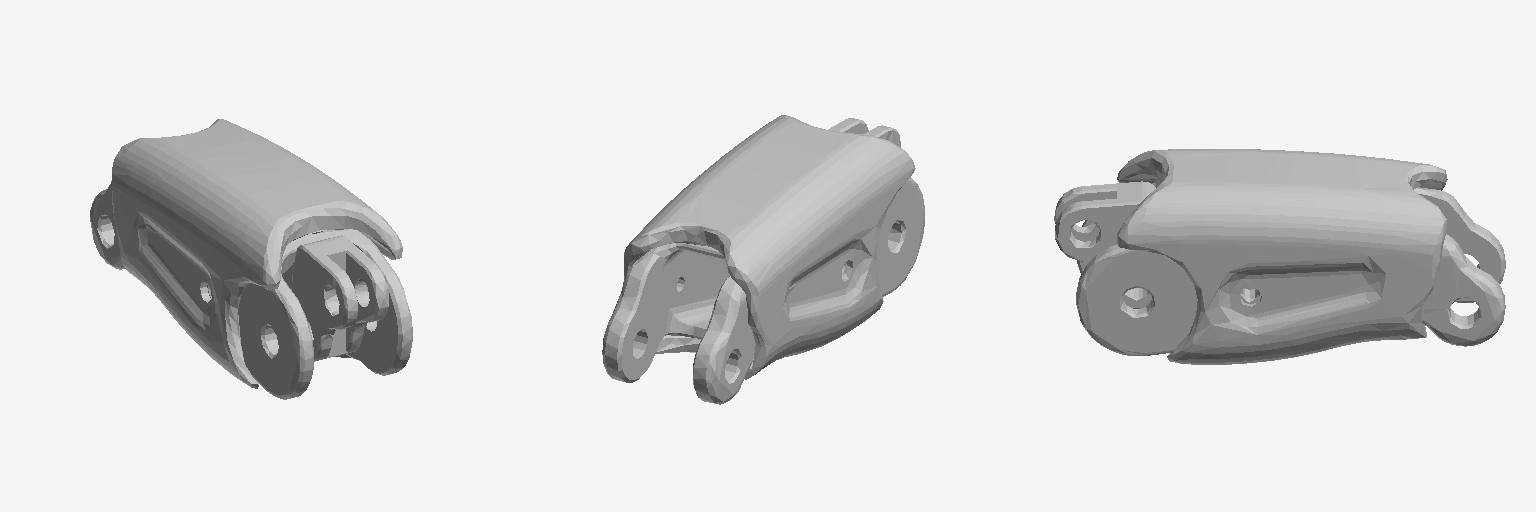
The model's file is L_ring_proximal.obj.
3 views of the same model, side by side, from view 1: azimuth 30°, elevation 25°; view 2: azimuth 150°, elevation 25°; view 3: azimuth 270°, elevation 25° (orthographic).
Visible parts, largest first — view 1: L_ring_proximal; view 2: L_ring_proximal; view 3: L_ring_proximal.
Boxes of the visible parts, box(x1,y1,x2,y2) form: L_ring_proximal: box(90, 119, 412, 399); L_ring_proximal: box(602, 115, 924, 404); L_ring_proximal: box(1054, 149, 1505, 364).
Size of the model in its own units: 0.016 by 0.019 by 0.0441.